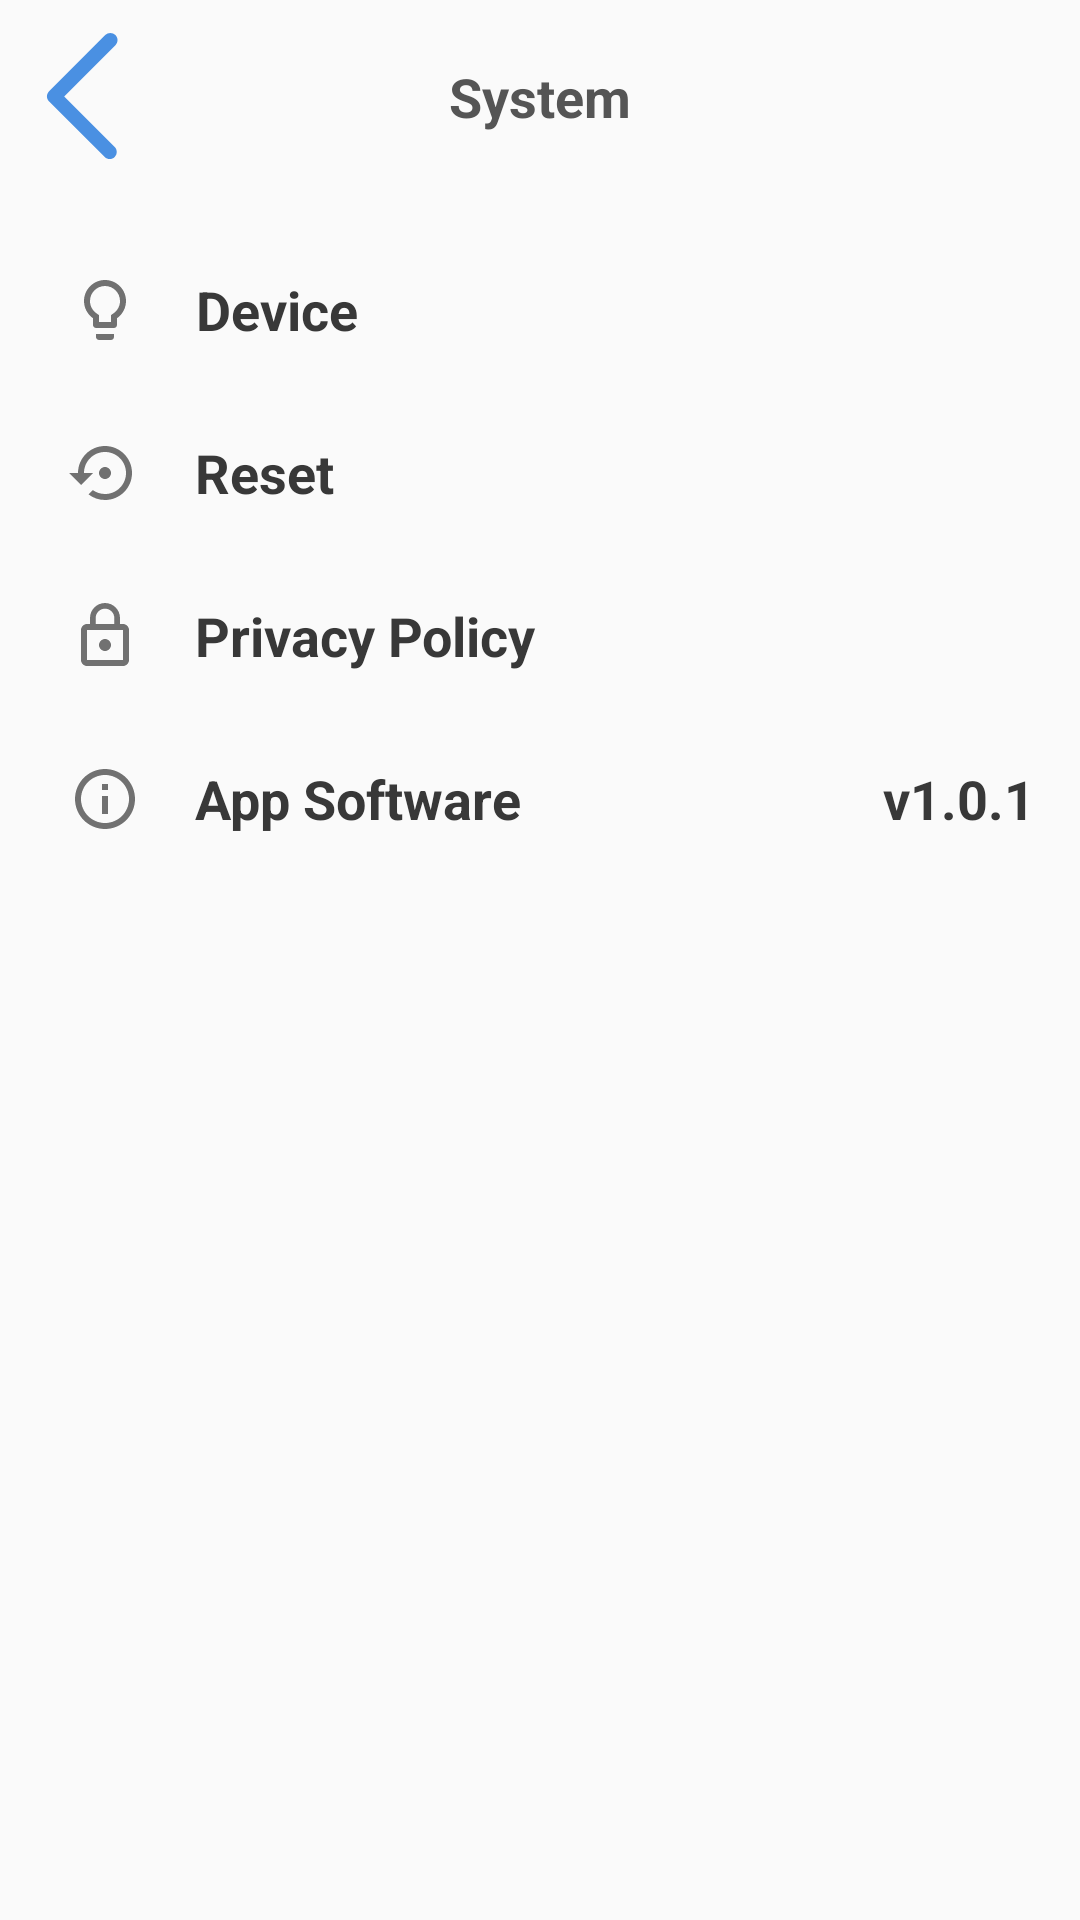

Screen size 1080 x 1920. Icon name, then its center in pixels as (x,y):
info: (105,799)
lightbulb: (105,310)
lock: (105,634)
